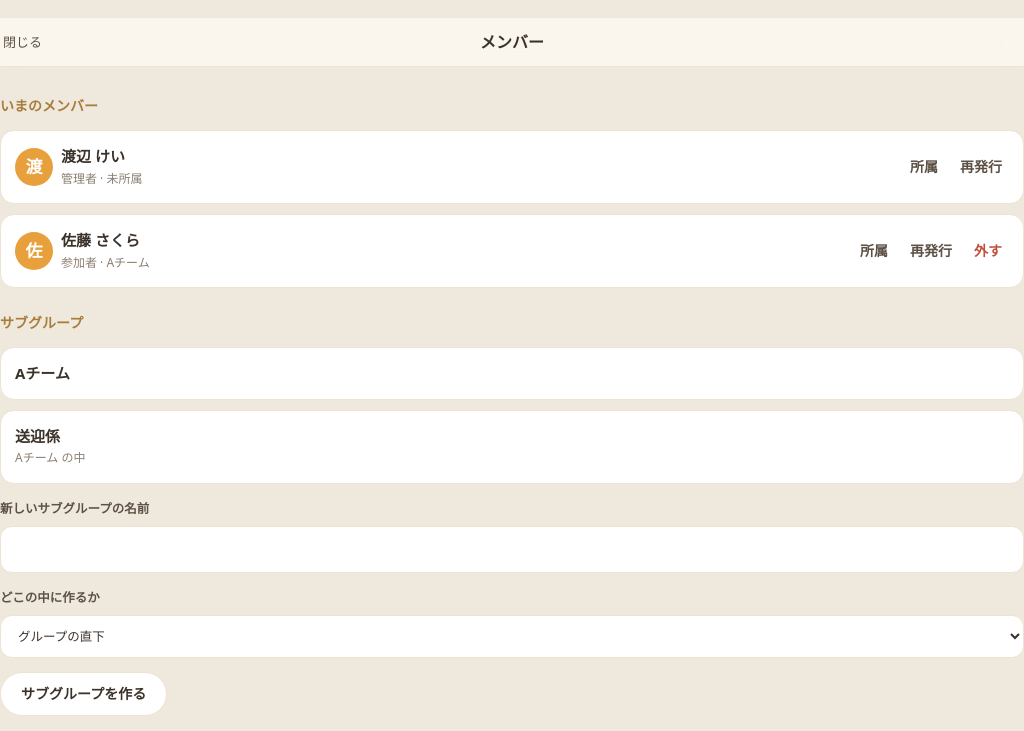
Test: MembersView › warns that taking someone out does not take the key back
The width and height of the screenshot is (1024, 731).
Click the button with test id "edit-scopes" in the row of "参加者 · Aチーム". click: [874, 251]
box: left=853, top=229, right=895, bottom=273
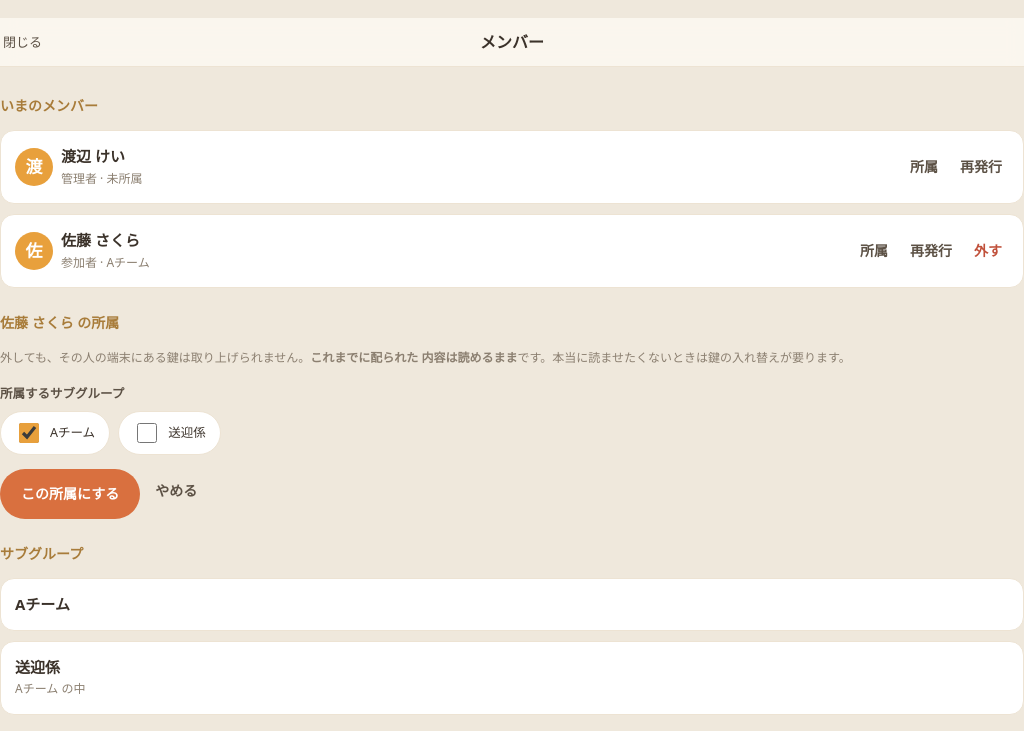
Expected: the text "読めるまま" is shown, left=310, top=349, right=517, bottom=366
